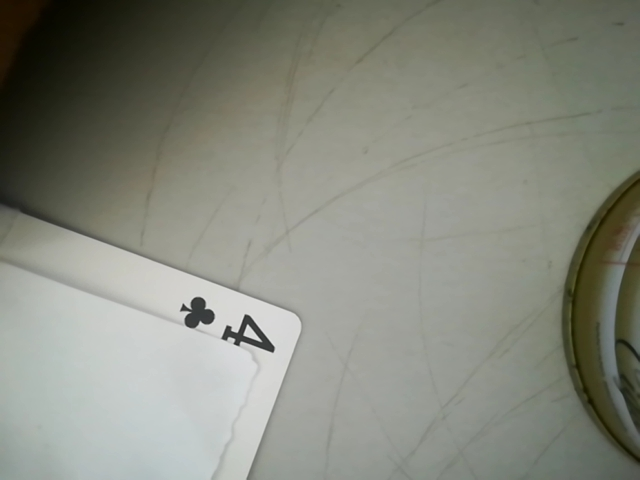mh 4: (162, 284, 291, 359)
